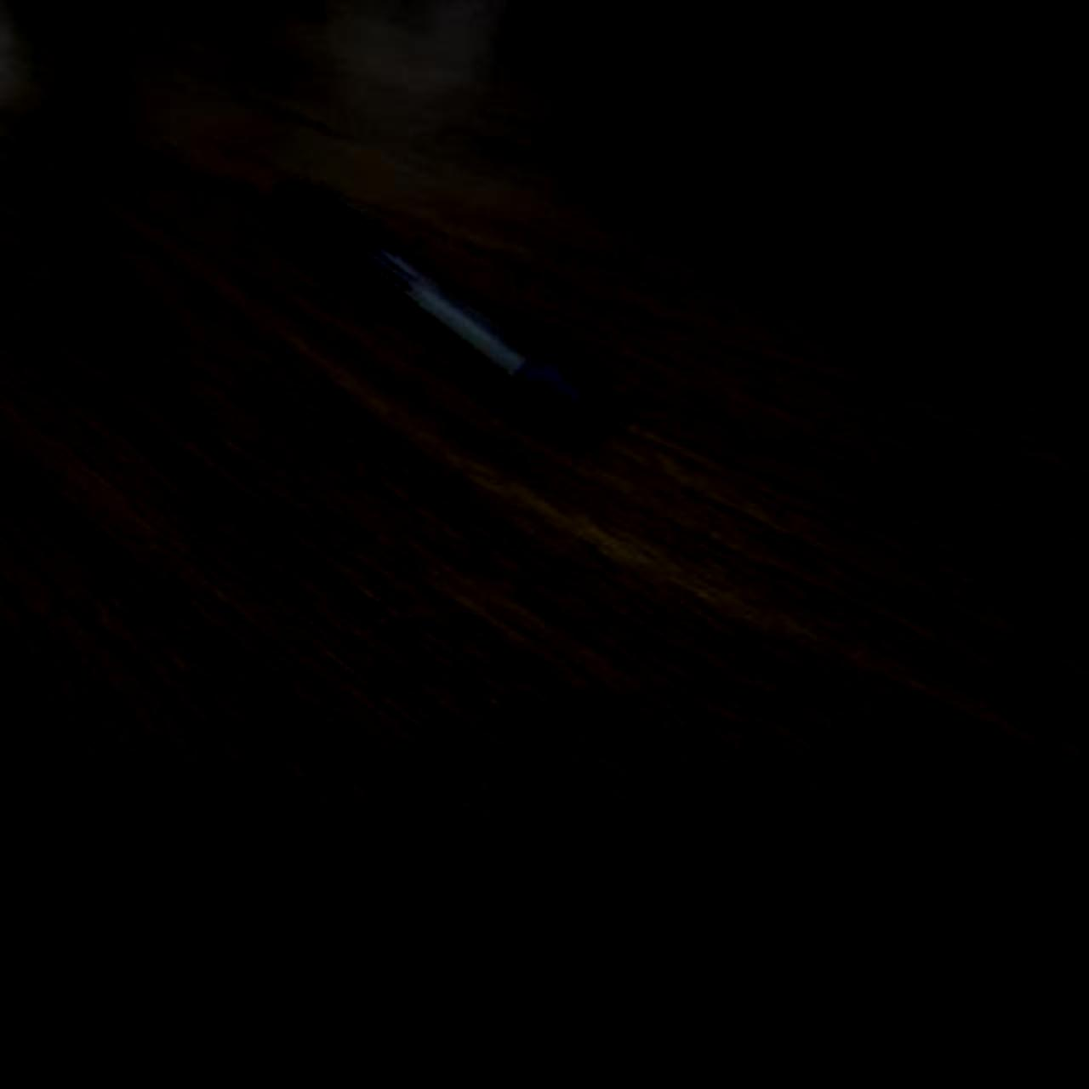pen: (274, 175, 606, 427)
